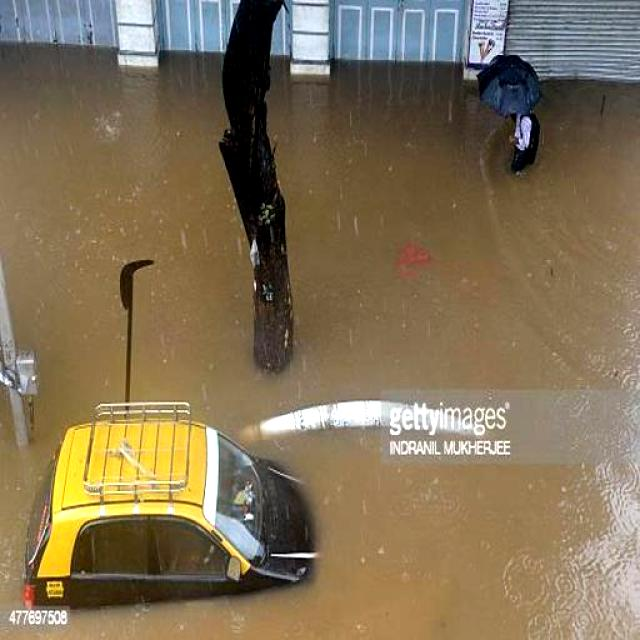civilian: (498, 101, 541, 193)
